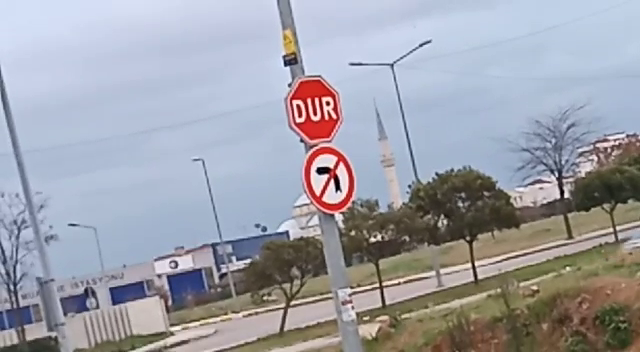no_left: (298, 142, 358, 218)
stop: (281, 73, 346, 147)
